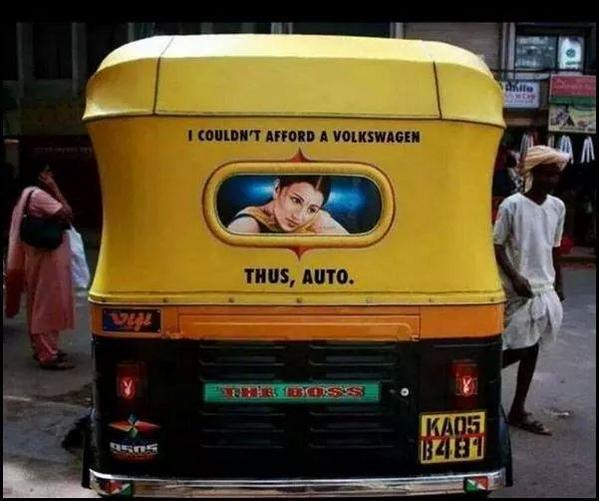doublelinenumberplate: (416, 406, 487, 464)
